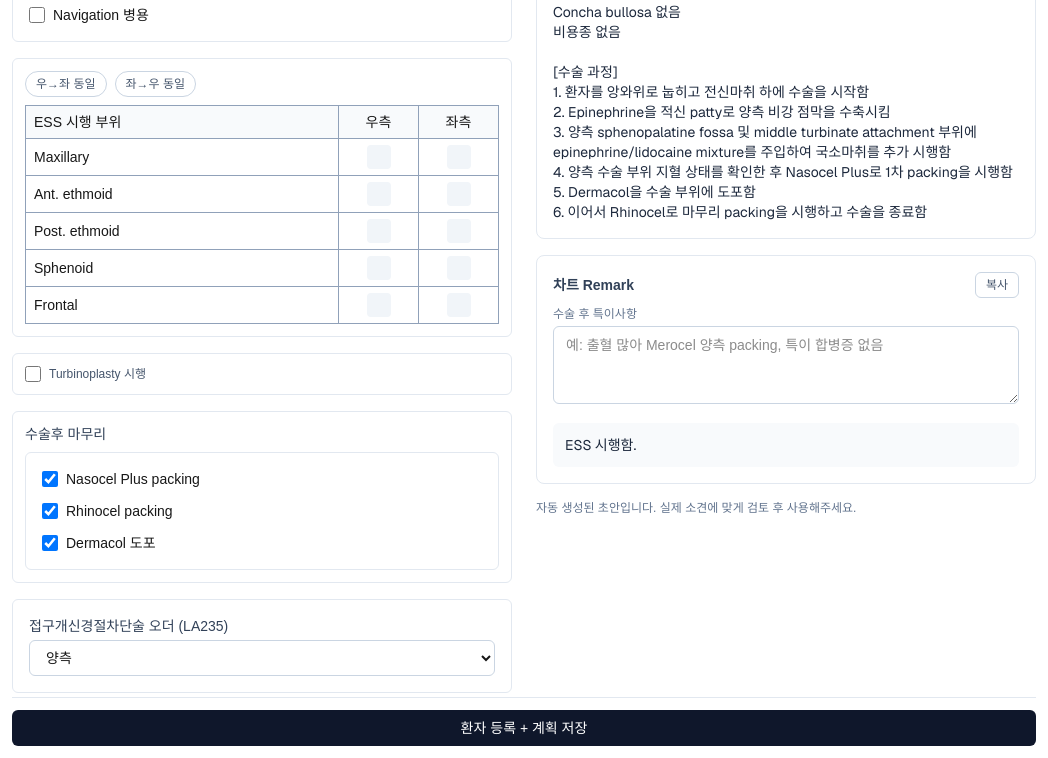
Test: Septo 기본 세트 › Turbinoplasty 시행을 켜면 양측 inferior가 체크되고, Middle은 MT 버튼을 눌러야 보인다
The width and height of the screenshot is (1048, 758).
(page scrolled)
Click the checkbox labelled "Turbinoplasty 시행": (33, 374) [25, 366, 41, 382]
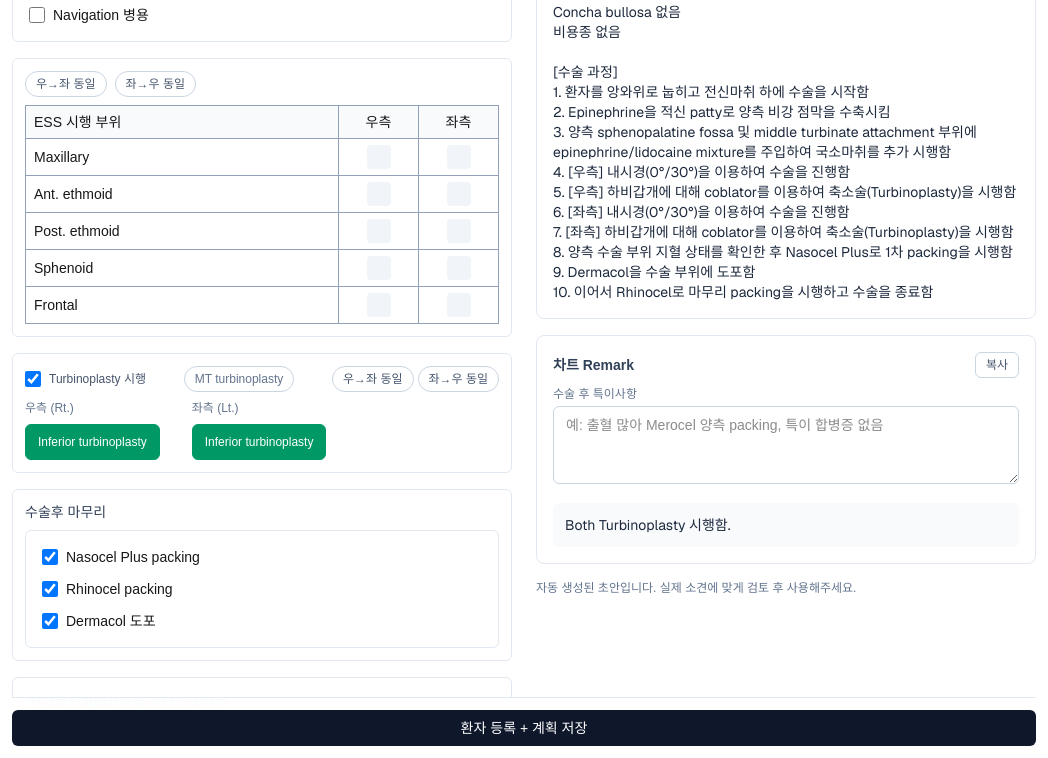
expect the text "Middle turbinoplasty" is not shown: met
Click the button "MT turbinoplasty": (239, 379) [184, 366, 294, 392]
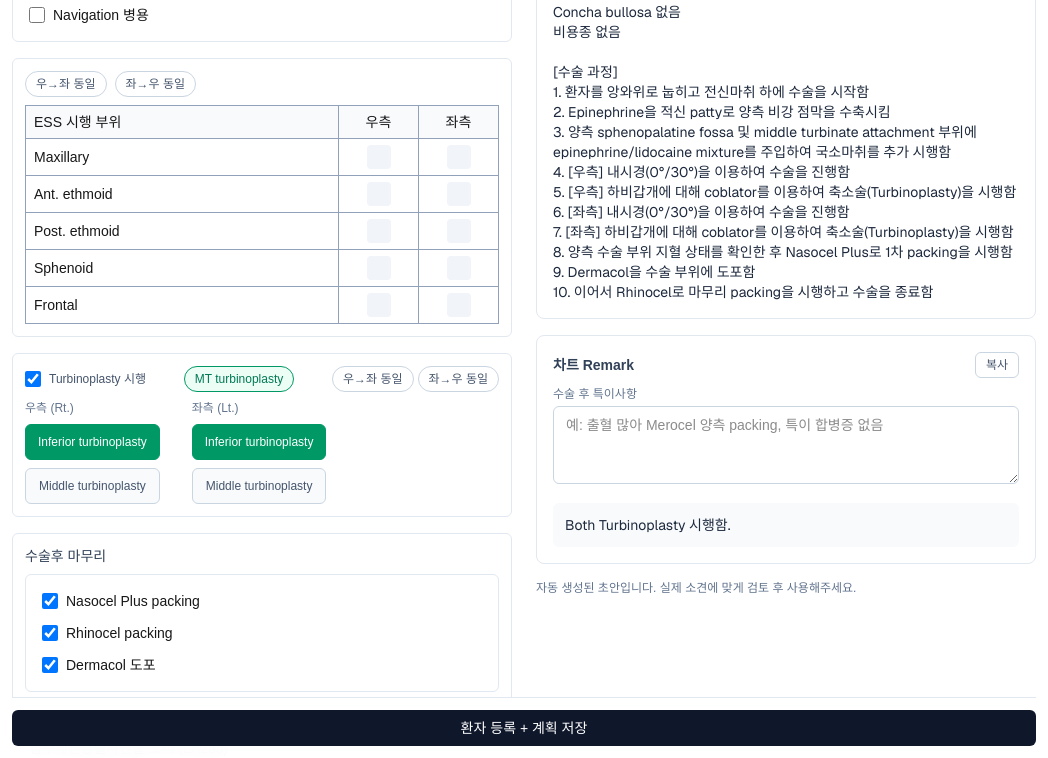
expect the text "Middle turbinoplasty" is shown: met, box [25, 468, 160, 504]
